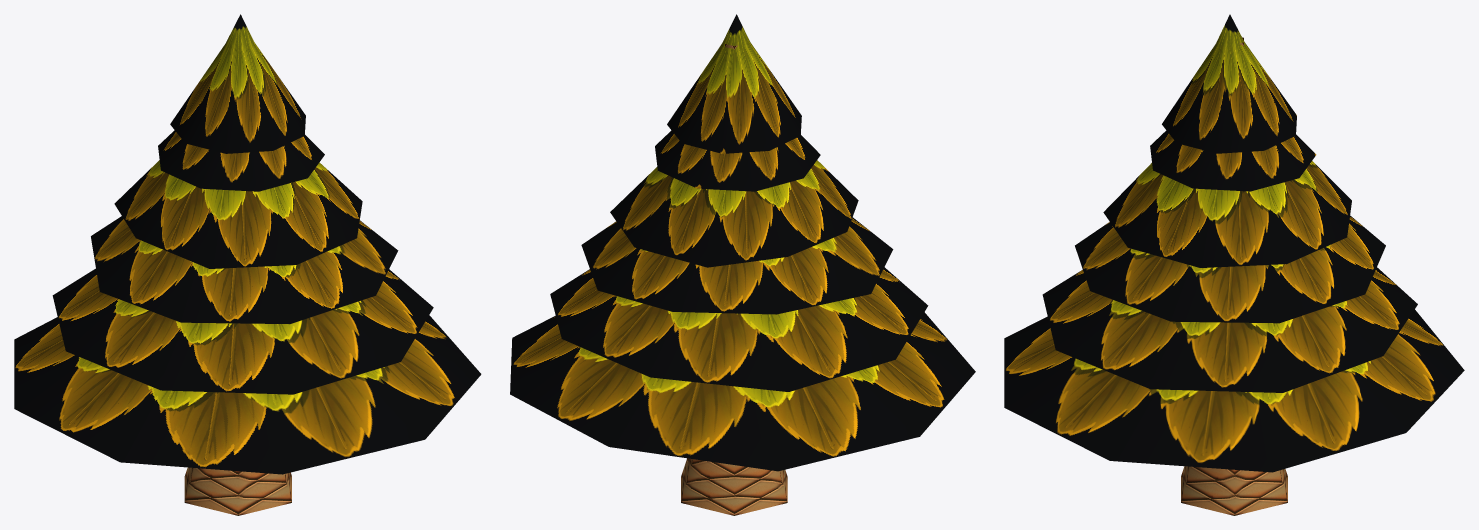
The model's file is Pino2.FBX.
The picture shows the model from 3 angles, left to right: view 1: azimuth 30°, elevation 25°; view 2: azimuth 150°, elevation 25°; view 3: azimuth 270°, elevation 25°; orthographic projection.
Parts seen in each view (by area): view 1: Sphere024, Sphere023, Sphere022, Sphere021, Sphere019, Sphere020, tallo pino; view 2: Sphere024, Sphere023, Sphere022, Sphere021, Sphere019, Sphere020, tallo pino; view 3: Sphere024, Sphere023, Sphere022, Sphere021, Sphere019, Sphere020, tallo pino.
Boxes of the visible parts, box(x1,y1,x2,y2) form: Sphere024: box(14, 315, 481, 474); Sphere023: box(52, 268, 433, 394); Sphere022: box(91, 216, 398, 324); Sphere021: box(114, 160, 362, 268); Sphere019: box(170, 14, 305, 153); Sphere020: box(158, 130, 324, 191); tallo pino: box(184, 467, 291, 515); Sphere024: box(510, 312, 975, 471); Sphere023: box(550, 267, 928, 391); Sphere022: box(581, 217, 893, 314); Sphere021: box(610, 160, 858, 267); Sphere019: box(667, 14, 801, 153); Sphere020: box(655, 130, 820, 191); tallo pino: box(681, 44, 787, 515); Sphere024: box(1004, 309, 1464, 472); Sphere023: box(1042, 267, 1417, 392); Sphere022: box(1075, 215, 1385, 323); Sphere021: box(1103, 161, 1351, 267); Sphere019: box(1162, 14, 1296, 153); Sphere020: box(1150, 130, 1316, 191); tallo pino: box(1181, 37, 1287, 515).
Size of the model in its own units: 74.17 by 82.55 by 72.4.
